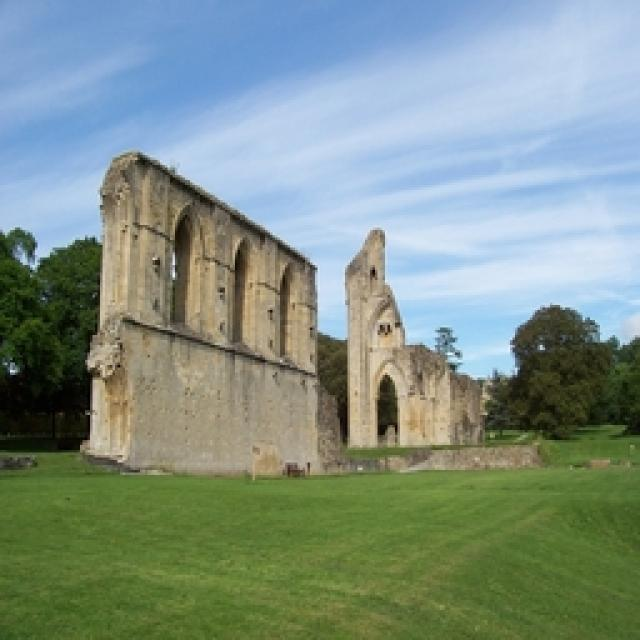Abbey: (79, 146, 491, 478)
